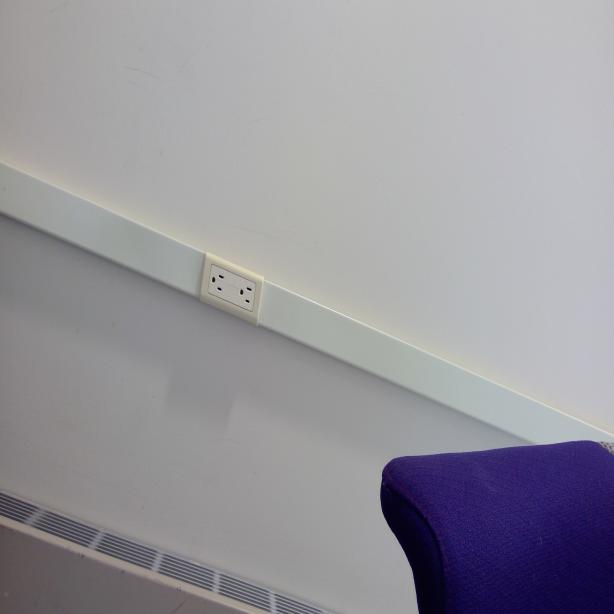typeb: (237, 278, 255, 310), (208, 265, 227, 295)
